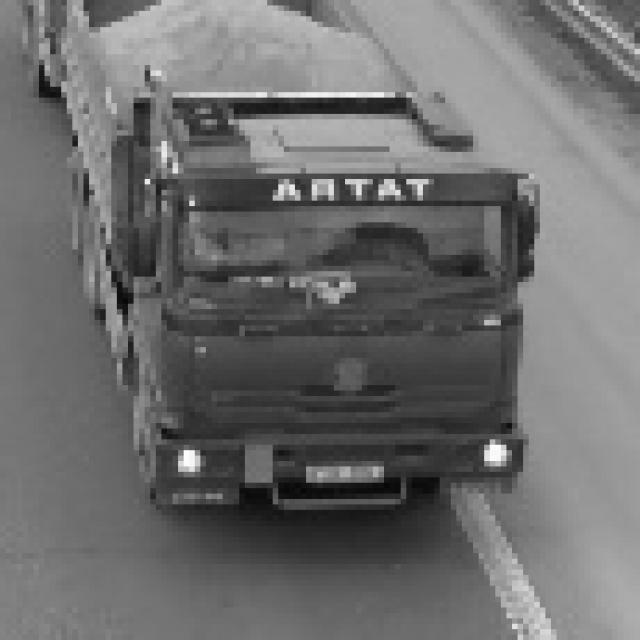truck: (99, 71, 548, 527)
